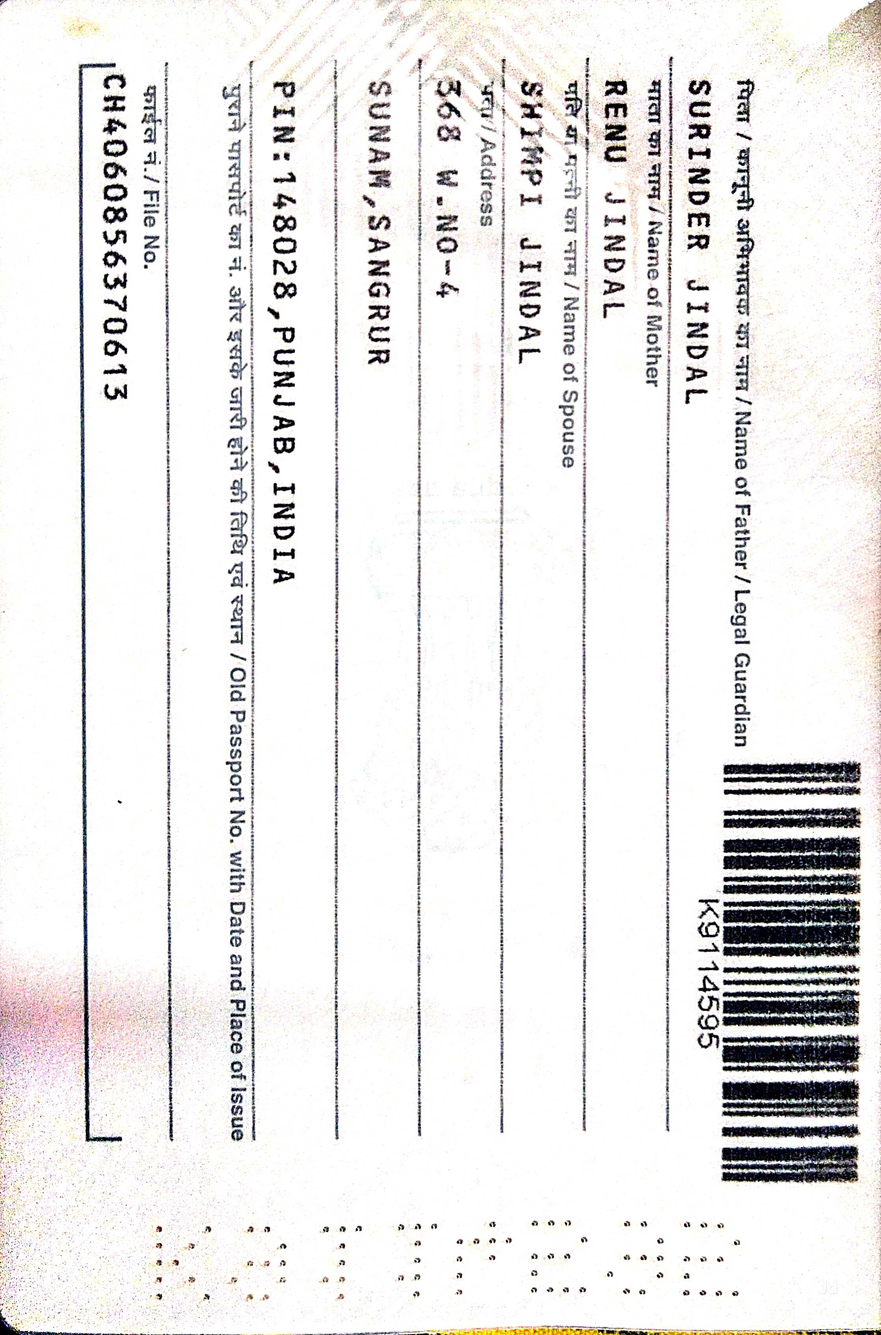File_no: (91, 70, 143, 426)
address: (262, 68, 463, 615)
father_name: (672, 55, 729, 433)
mother_name: (595, 51, 642, 326)
passport_no: (689, 886, 732, 1063)
spouse_name: (507, 61, 561, 371)
